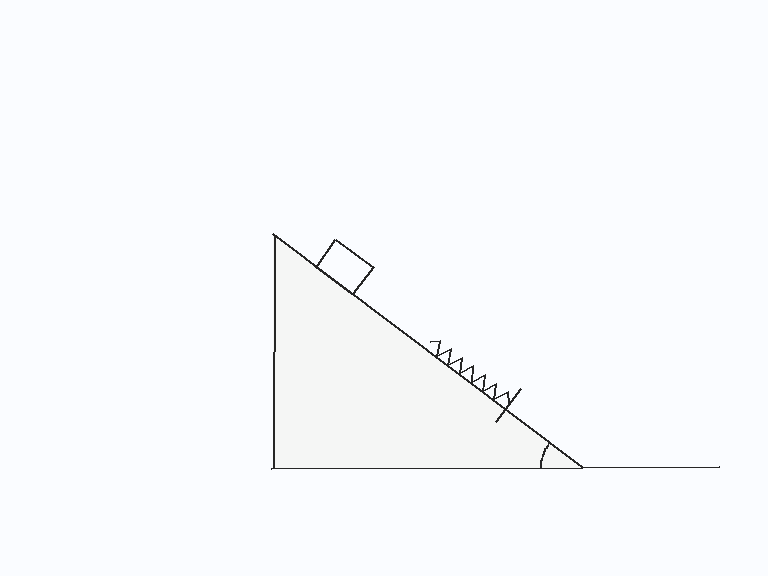block: (313, 237, 374, 296)
ramp: (272, 233, 583, 469)
spring: (428, 338, 512, 404)
